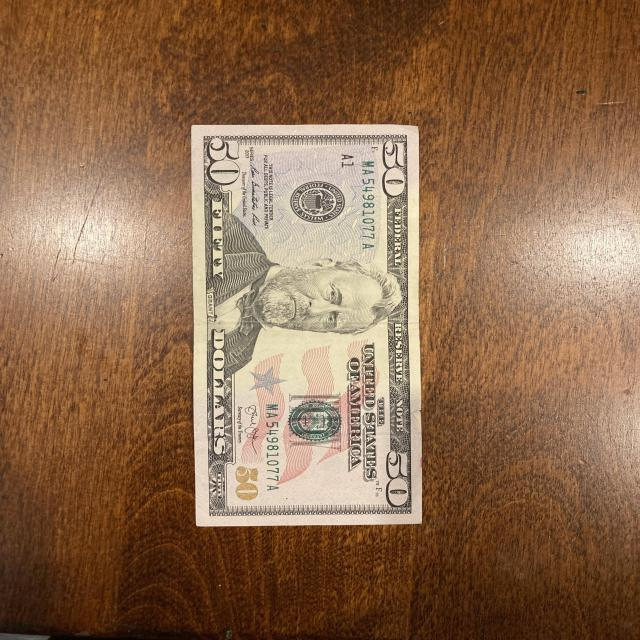fifty: (189, 124, 423, 529)
